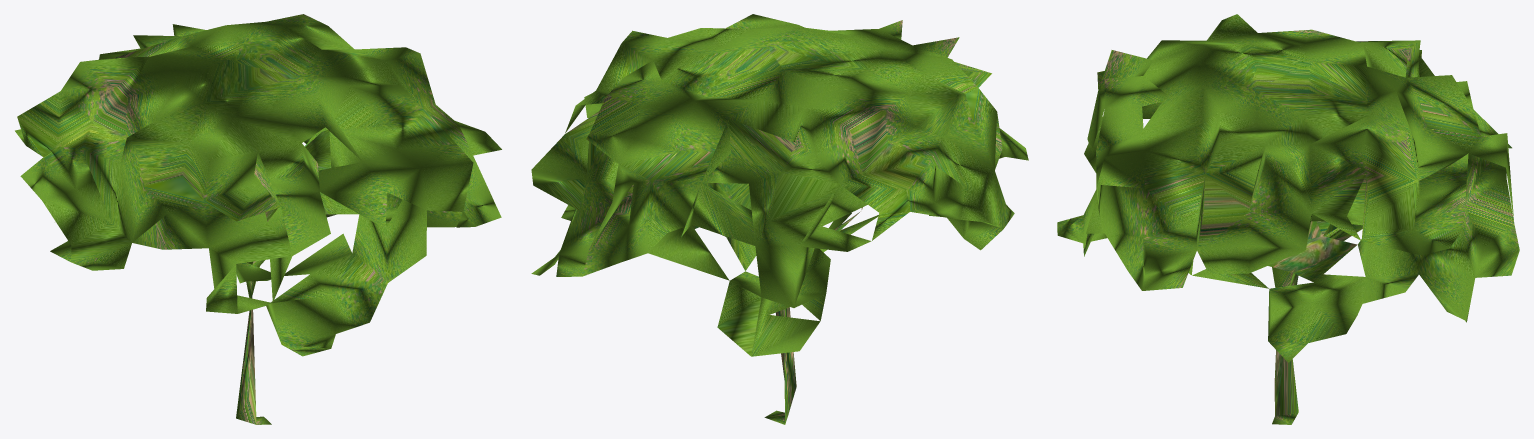
File: rain_tree_low.glb
The picture shows the model from 3 angles, left to right: view 1: azimuth 30°, elevation 25°; view 2: azimuth 150°, elevation 25°; view 3: azimuth 270°, elevation 25°; orthographic projection. The views are drawn at different scales.
Size of the model in its own units: 17.03 by 14 by 16.81.
Materials: 1 (1 with a texture image).
